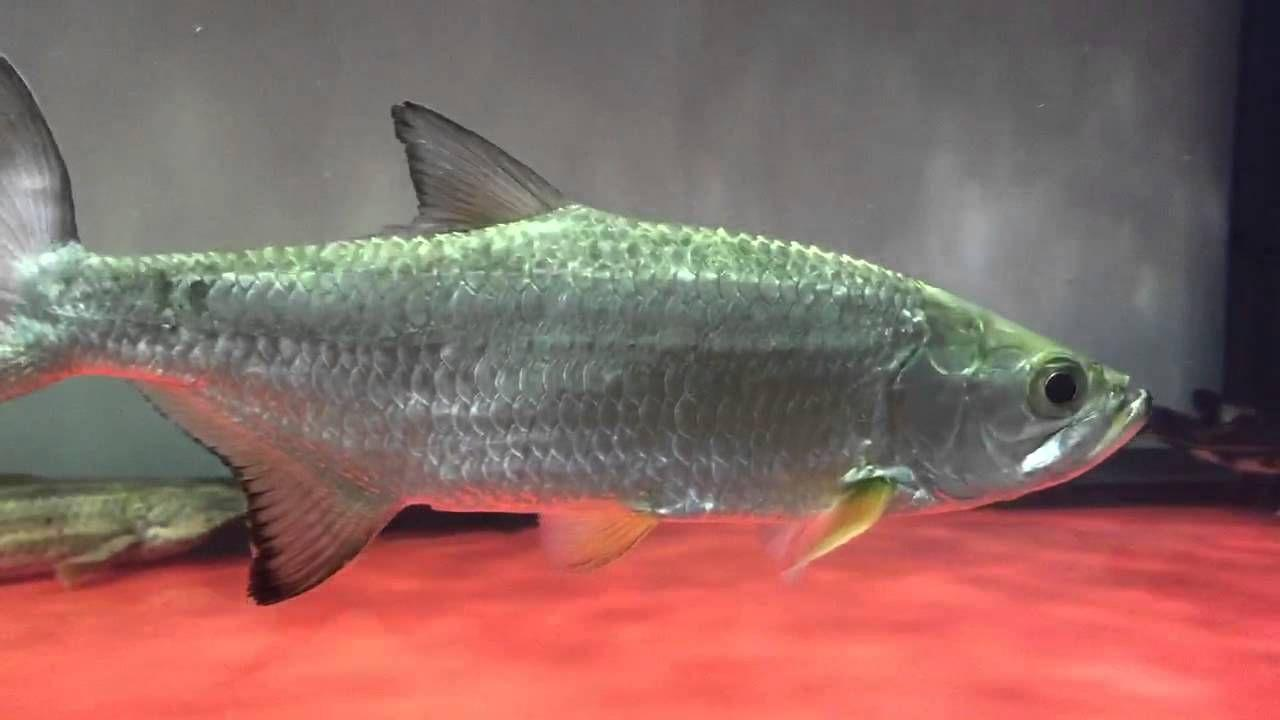Indo-Pacific Tarpon: (3, 50, 1154, 604)
